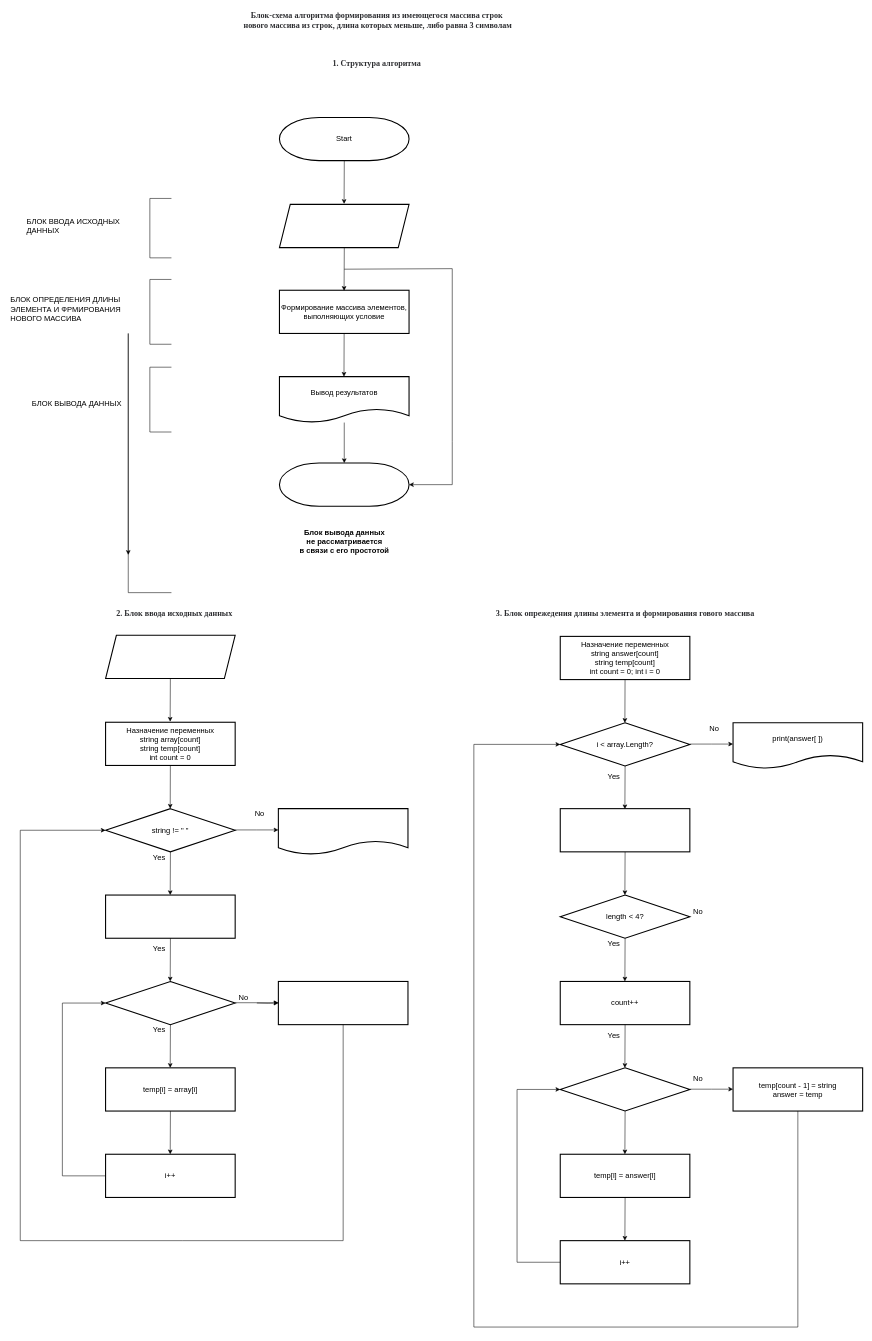
This 872x1341 diagram has some shape labels left out. Each missing label, with the box of its shape:
count++ i = 0: (105, 894, 235, 939)
End: (279, 462, 409, 507)
i < temp.Length - 1: (105, 981, 235, 1025)
l < temp.Length - 1: (559, 1067, 690, 1111)
print(array[ ]): (278, 808, 408, 855)
string k = set[i] int length = k.Length: (559, 808, 690, 852)
temp[count - 1] = string array = temp: (278, 981, 408, 1025)
Ввод исходных данных: (279, 204, 409, 248)
Ввод элементов string с помощью клвиатуры: (105, 634, 235, 679)
